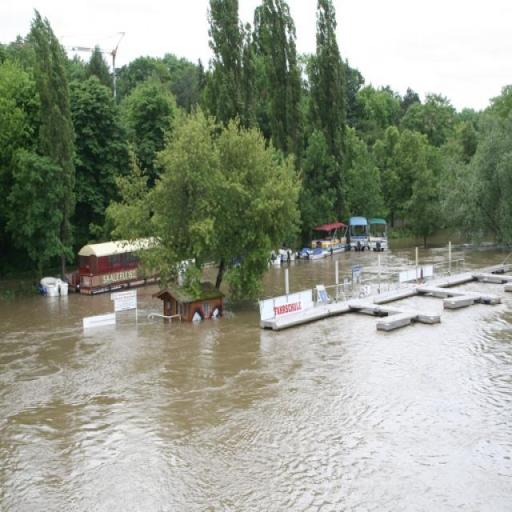flood: (0, 283, 512, 512), (289, 253, 378, 292), (454, 248, 509, 270), (381, 249, 414, 280), (264, 266, 286, 297), (422, 249, 449, 274)
house: (74, 235, 157, 294), (163, 286, 226, 326)
